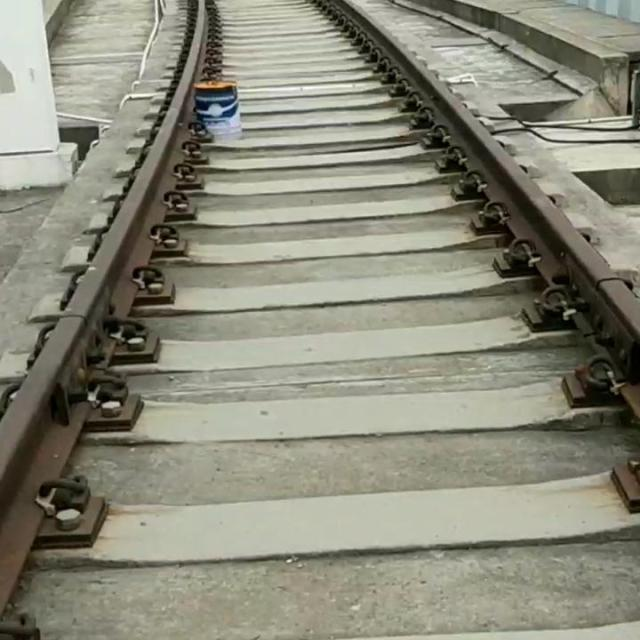danger: (191, 76, 249, 149)
rail: (0, 0, 205, 614), (318, 0, 640, 383)
